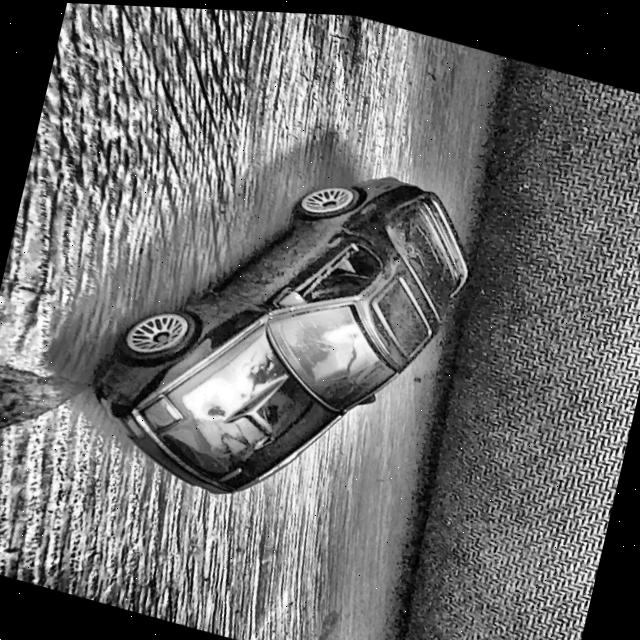car: (76, 107, 484, 544)
